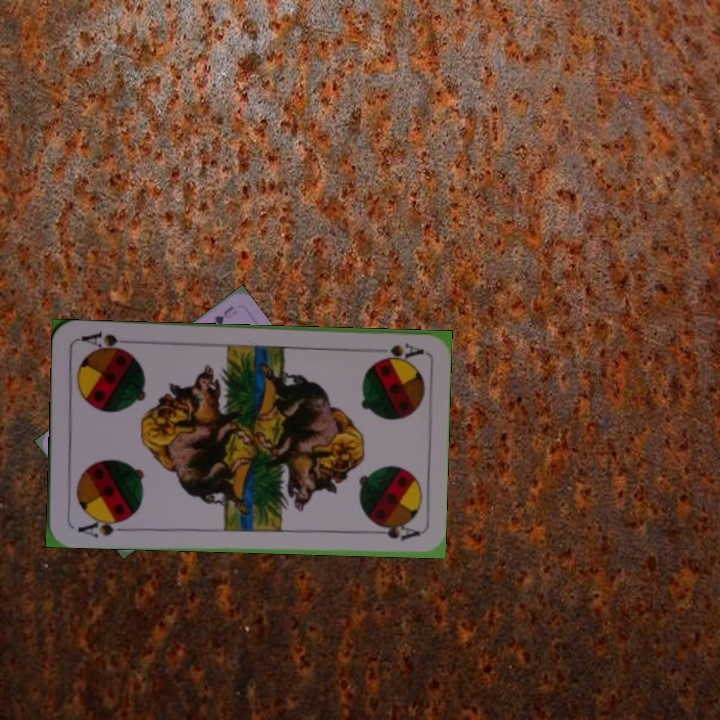GU: (209, 301, 240, 327)
SA: (74, 513, 130, 540), (374, 339, 425, 363)
